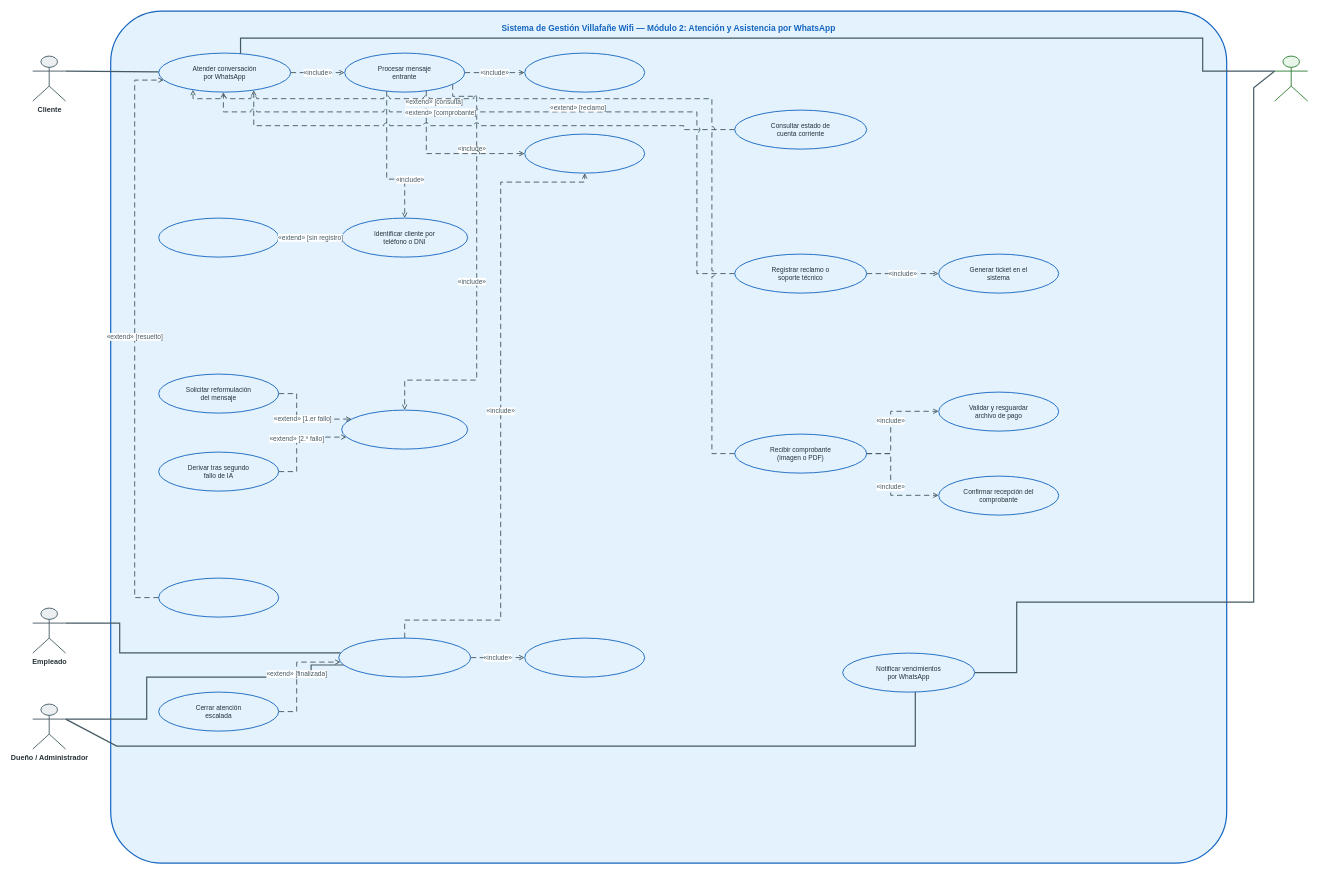
This 1331x875 diagram has some shape labels left out. Here are the shapes that lost their labels. From the top down, the centre of each, then its label:
At point (584, 72): "Abrir o reutilizar conversación".
At point (1291, 78): "«external» Bot de WhatsApp (Meta API)".
At point (584, 153): "Registrar mensaje en el historial".
At point (218, 237): "Ofrecer registro y contratación".
At point (404, 429): "Reconocer intención mediante IA".
At point (218, 597): "Cerrar conversación resuelta por el bot".
At point (404, 657): "Tomar control de conversación escalada".
At point (584, 657): "Consultar historial de conversación".
